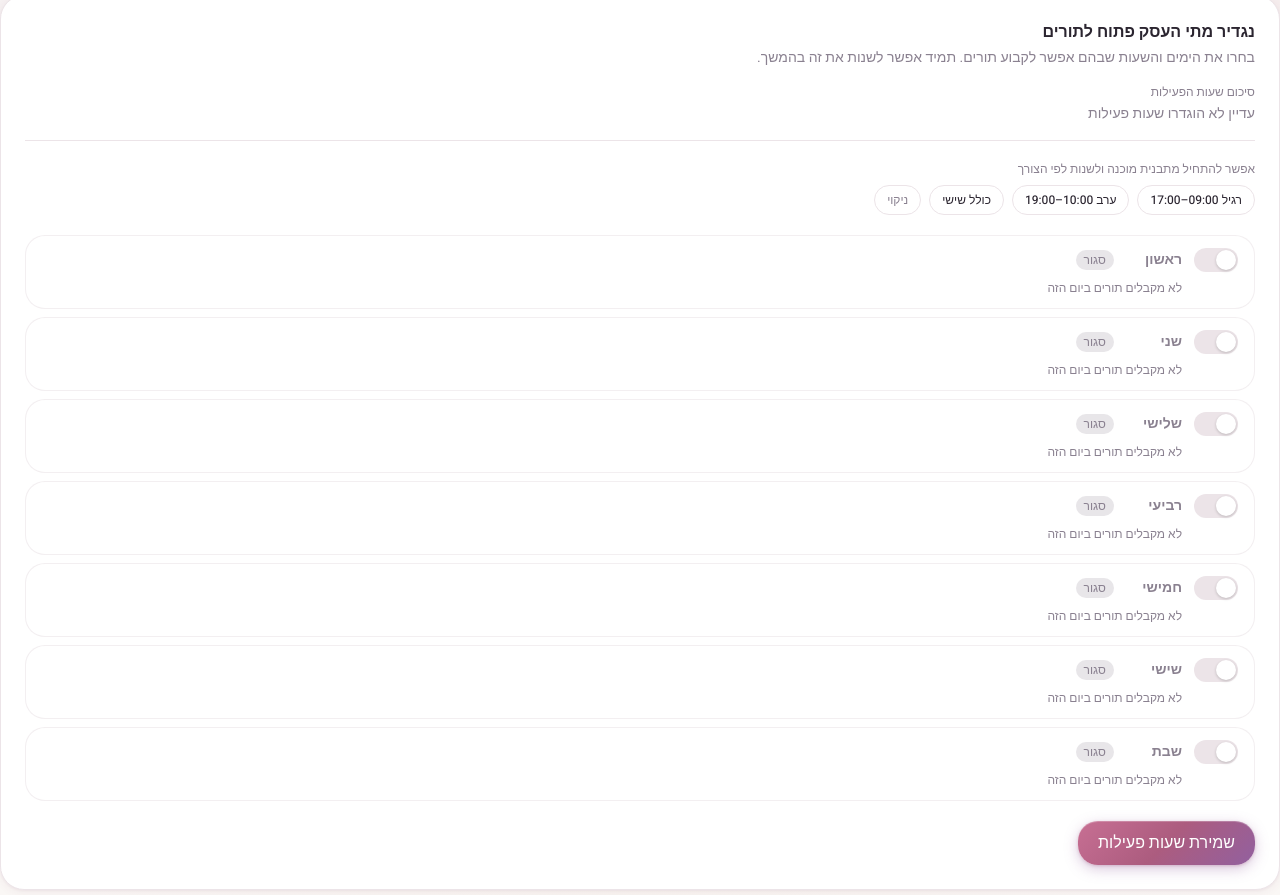
Test: WeeklyAvailabilityForm › toggling a closed day open reveals time selects defaulting to 09:00-17:00
// Sunday switch is the first switch.
Click the switch named "ראשון — סגור".
click(1216, 260)  # box [1194, 248, 1238, 272]
(page scrolled)
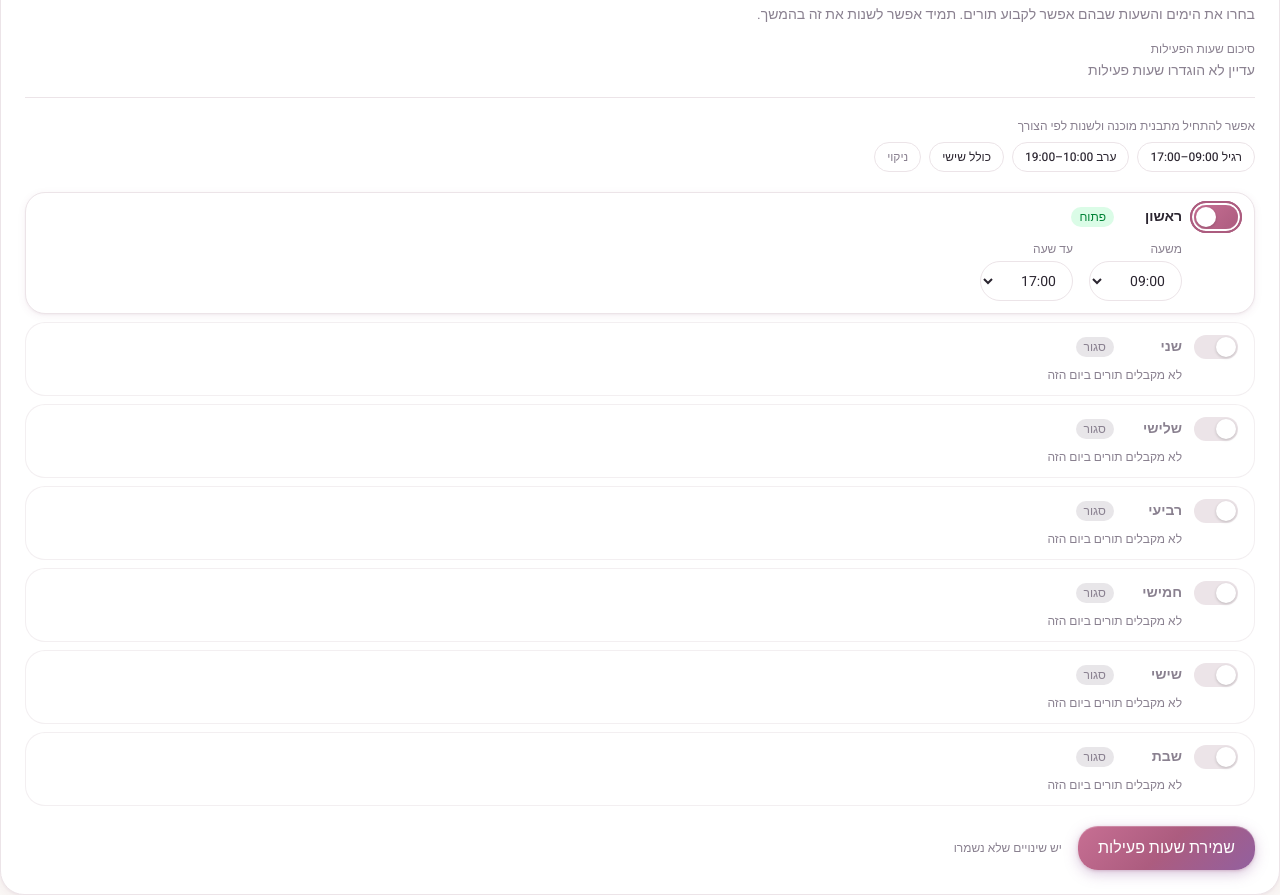
Now the dropdown showing "09:00" is shown, box [1089, 261, 1182, 301]
Now the dropdown showing "17:00" is shown, box [980, 261, 1073, 301]
Now the text "יש שינויים שלא נשמרו" is shown, box [954, 840, 1062, 856]
